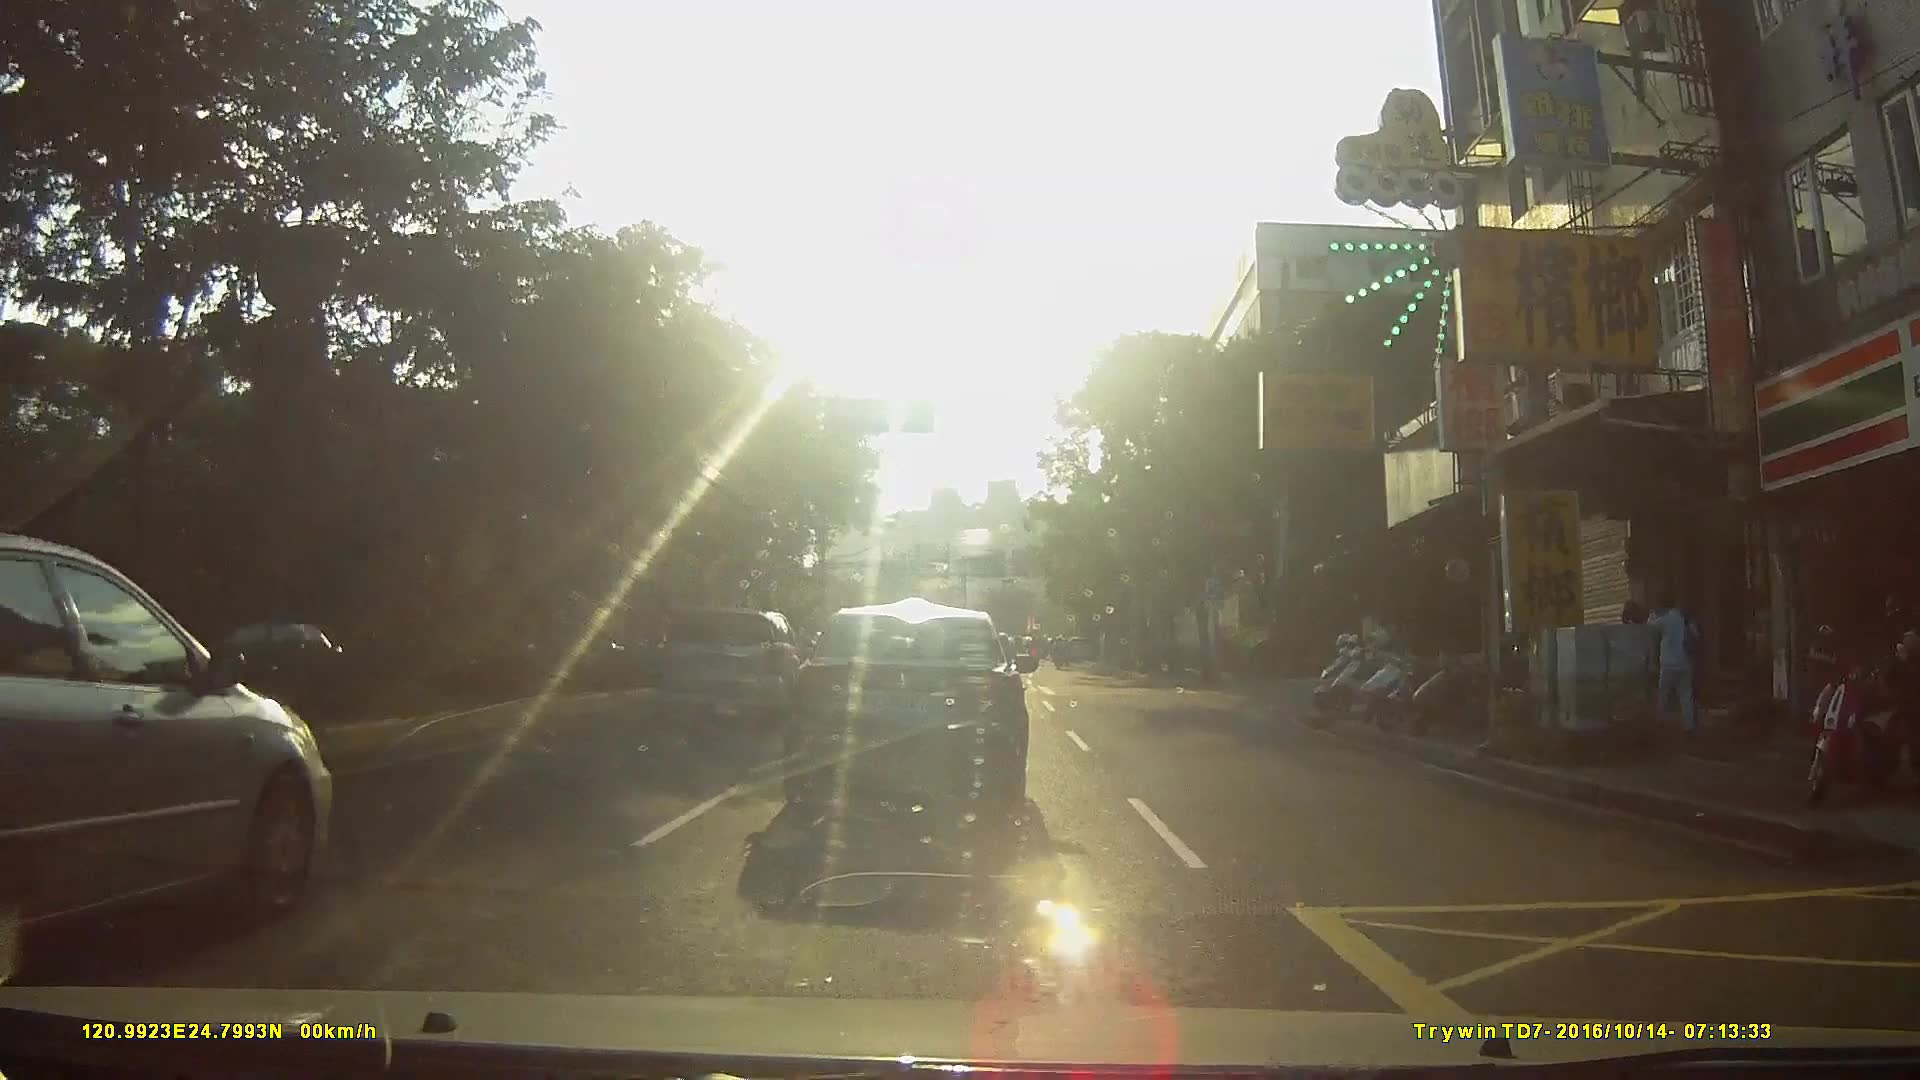pedestrian: (1645, 587, 1709, 740), (1899, 610, 1920, 790)
vehicle: (1, 528, 339, 977), (792, 595, 1057, 826), (659, 605, 811, 726)
